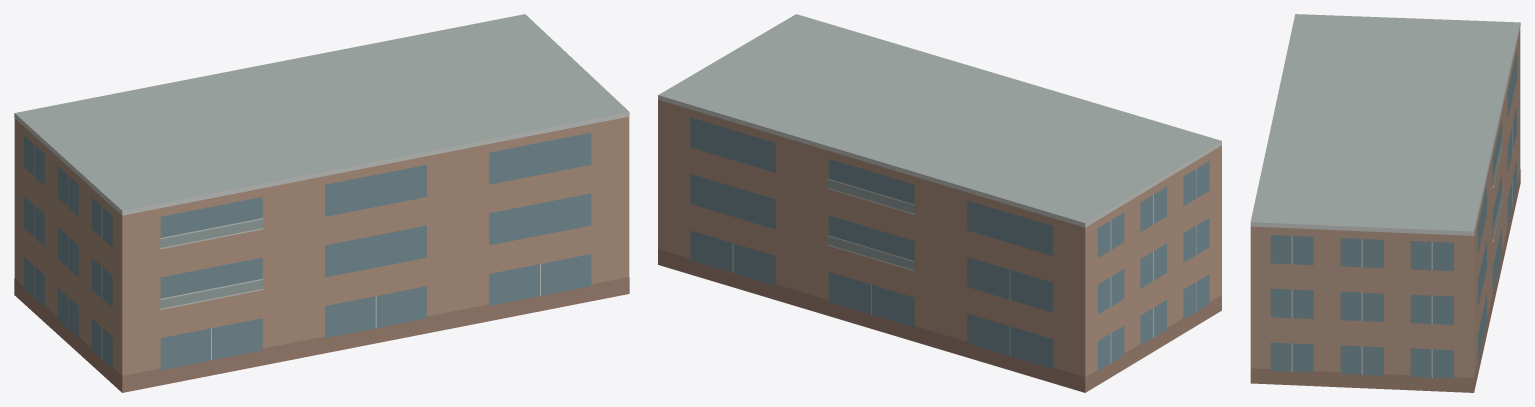
Rendered from survey-upis-32763587.glb.
3 views of the same model, side by side, from view 1: azimuth 30°, elevation 25°; view 2: azimuth 150°, elevation 25°; view 3: azimuth 270°, elevation 25° (orthographic). The views are drawn at different scales.
Parts seen in each view (by area): view 1: survey-upis-32763587.tmp; view 2: survey-upis-32763587.tmp; view 3: survey-upis-32763587.tmp.
Boxes of the visible parts, bbox=[...] form: survey-upis-32763587.tmp: bbox=[14, 14, 629, 392]; survey-upis-32763587.tmp: bbox=[658, 14, 1221, 392]; survey-upis-32763587.tmp: bbox=[1250, 14, 1520, 392].
Size of the model in its own units: 26.51 by 9.15 by 13.9.
